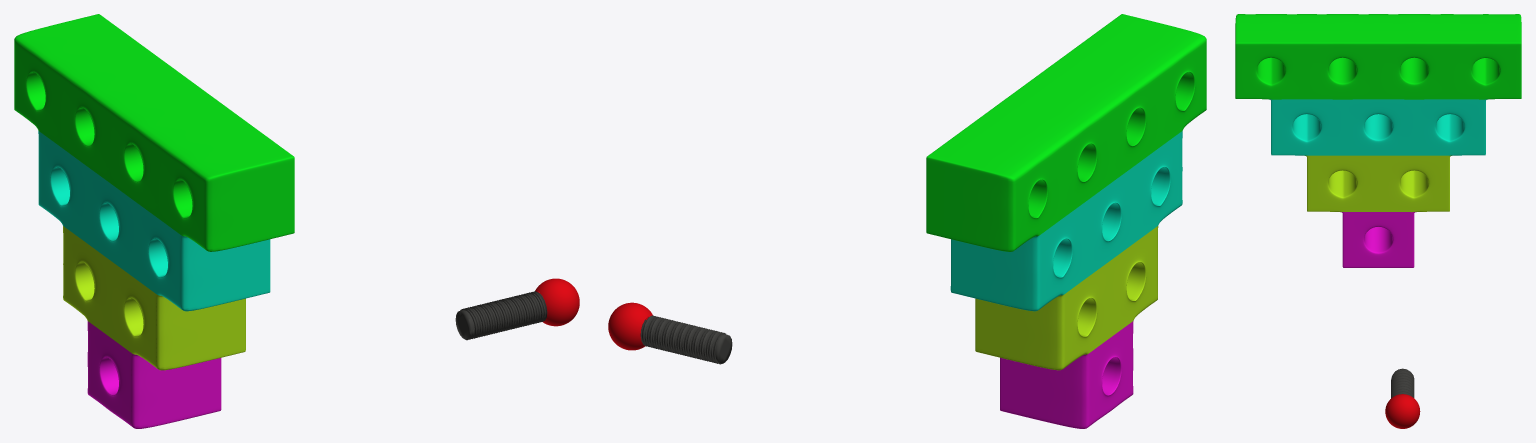
Rendered from Puzzle.fbx.
3 renders of one model, left to right at view 1: azimuth 30°, elevation 25°; view 2: azimuth 150°, elevation 25°; view 3: azimuth 270°, elevation 25°, orthographic. The views are drawn at different scales.
Visible parts, largest first — view 1: Cube, Plane; view 2: Cube, Plane; view 3: Cube, Plane.
Part boxes in pixels (x1,y1,x2,y2): Cube: [14, 14, 294, 428]; Plane: [455, 278, 579, 340]; Cube: [926, 14, 1206, 428]; Plane: [608, 302, 732, 364]; Cube: [1235, 14, 1521, 267]; Plane: [1385, 368, 1420, 428].
Bounding box in the file's own units: 347 × 235 × 243.
